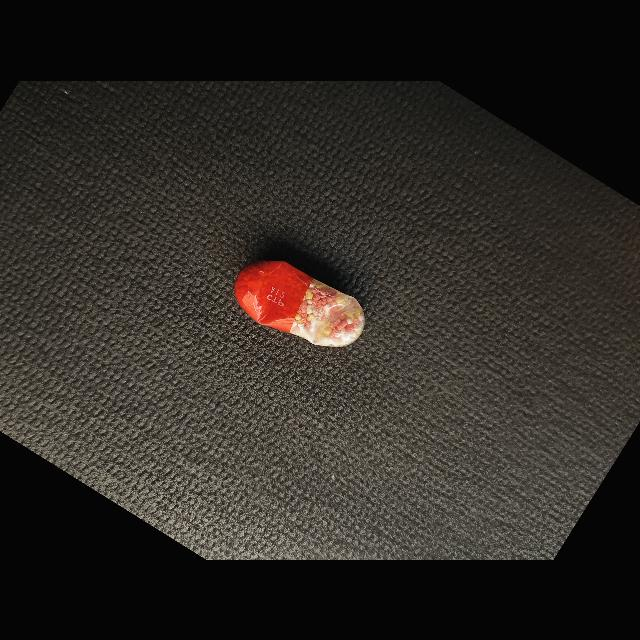Defective Capsule: (234, 260, 365, 347)
